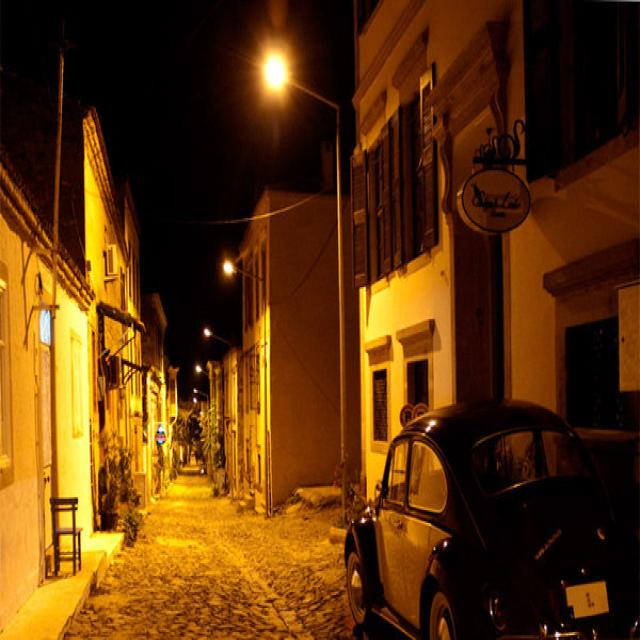Car: (347, 400, 640, 640)
